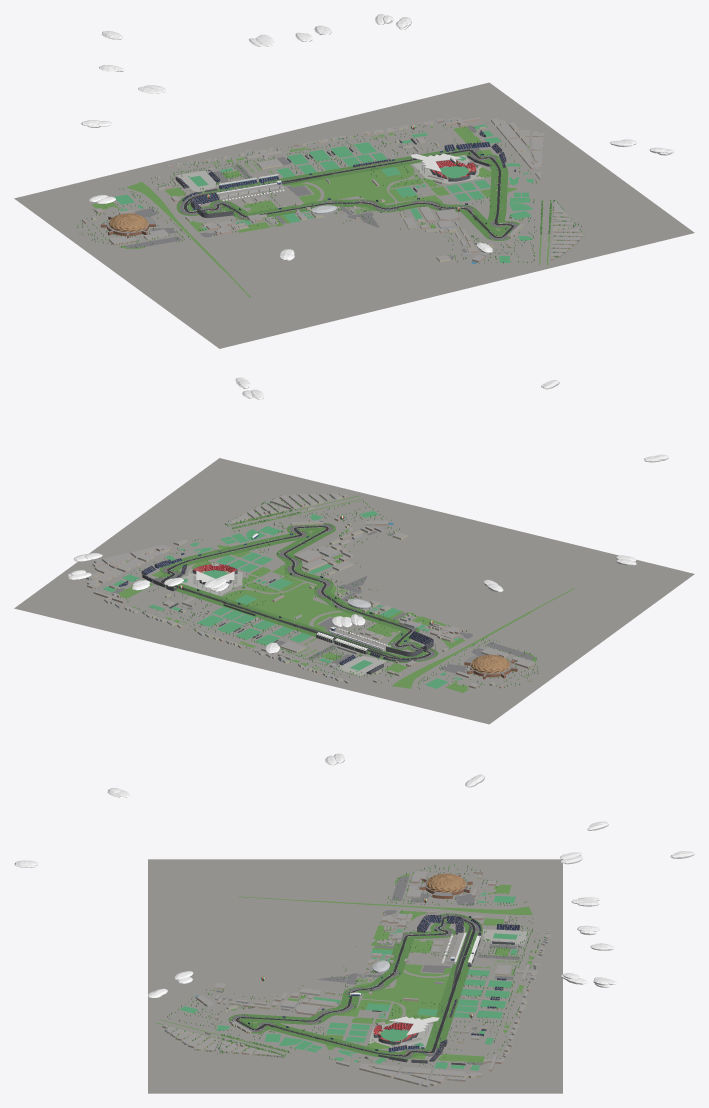
The model's file is hermanos_rodriguez.glb.
3 views of the same model, one above another, from view 1: azimuth 30°, elevation 25°; view 2: azimuth 150°, elevation 25°; view 3: azimuth 270°, elevation 25° (orthographic).
Parts seen in each view (by area): view 1: SueloBase, Edificios, AreasVerdes, Pasto, Canchas, Nubes, Arboles, Estacionamientos, Asfalto, PalacioDeLosDeportes, MurosContencion, Explanadas (+1 smaller); view 2: SueloBase, Edificios, AreasVerdes, Pasto, Canchas, Nubes, Arboles, Asfalto, Estacionamientos, MurosContencion, Explanadas, PalacioDeLosDeportes (+1 smaller); view 3: SueloBase, Edificios, AreasVerdes, Pasto, Canchas, Nubes, Arboles, Estacionamientos, Asfalto, Explanadas, PalacioDeLosDeportes, Escapatorias (+1 smaller).
Boxes of the visible parts, x1=… form: SueloBase: x1=14, y1=82, x2=694, y2=348; Edificios: x1=82, y1=117, x2=584, y2=262; AreasVerdes: x1=92, y1=126, x2=551, y2=297; Pasto: x1=176, y1=148, x2=519, y2=240; Canchas: x1=113, y1=124, x2=533, y2=262; Nubes: x1=81, y1=14, x2=674, y2=260; Arboles: x1=77, y1=120, x2=584, y2=263; Estacionamientos: x1=125, y1=125, x2=476, y2=259; Asfalto: x1=184, y1=149, x2=514, y2=237; PalacioDeLosDeportes: x1=100, y1=213, x2=155, y2=238; MurosContencion: x1=179, y1=149, x2=513, y2=239; Explanadas: x1=177, y1=155, x2=483, y2=192; SueloBase: x1=14, y1=458, x2=694, y2=724; Edificios: x1=86, y1=493, x2=535, y2=688; AreasVerdes: x1=117, y1=495, x2=574, y2=692; Pasto: x1=156, y1=523, x2=438, y2=662; Canchas: x1=103, y1=510, x2=461, y2=688; Nubes: x1=68, y1=377, x2=668, y2=653; Arboles: x1=113, y1=493, x2=538, y2=689; Asfalto: x1=160, y1=526, x2=431, y2=659; Estacionamientos: x1=111, y1=531, x2=533, y2=673; MurosContencion: x1=155, y1=523, x2=435, y2=661; Explanadas: x1=181, y1=562, x2=386, y2=676; PalacioDeLosDeportes: x1=464, y1=654, x2=517, y2=679; SueloBase: x1=148, y1=859, x2=562, y2=1093; Edificios: x1=162, y1=871, x2=550, y2=1086; AreasVerdes: x1=156, y1=873, x2=536, y2=1075; Pasto: x1=228, y1=913, x2=482, y2=1059; Canchas: x1=180, y1=892, x2=520, y2=1070; Nubes: x1=14, y1=753, x2=694, y2=998; Arboles: x1=165, y1=864, x2=545, y2=1066; Estacionamientos: x1=216, y1=876, x2=519, y2=1065; Asfalto: x1=235, y1=916, x2=475, y2=1056; Explanadas: x1=368, y1=929, x2=528, y2=1047; PalacioDeLosDeportes: x1=419, y1=873, x2=472, y2=898; Escapatorias: x1=231, y1=914, x2=479, y2=1058.
Size of the model in its own units: 2614 by 483 by 2988.
57 materials, 6 textured.
